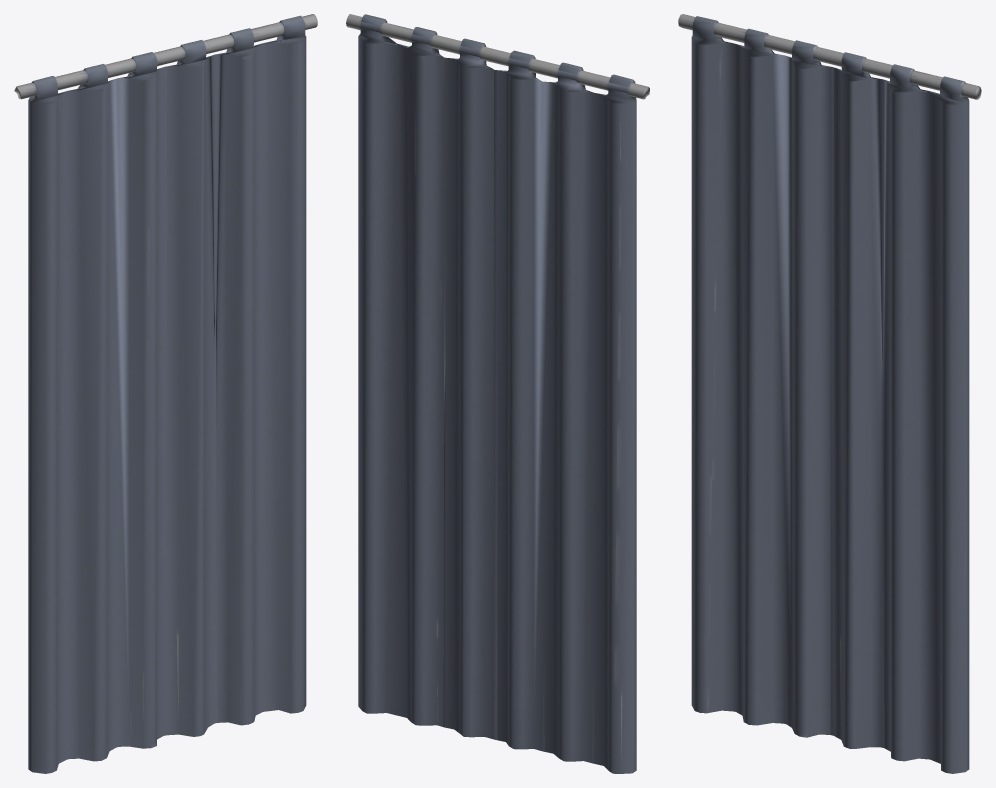
Rendered from curtain.glb.
3 views of the same model, side by side, from view 1: azimuth 30°, elevation 25°; view 2: azimuth 150°, elevation 25°; view 3: azimuth 330°, elevation 25° (orthographic).
Size of the model in its own units: 0.4302 by 0.9512 by 0.0396.
1 material, 1 textured.
